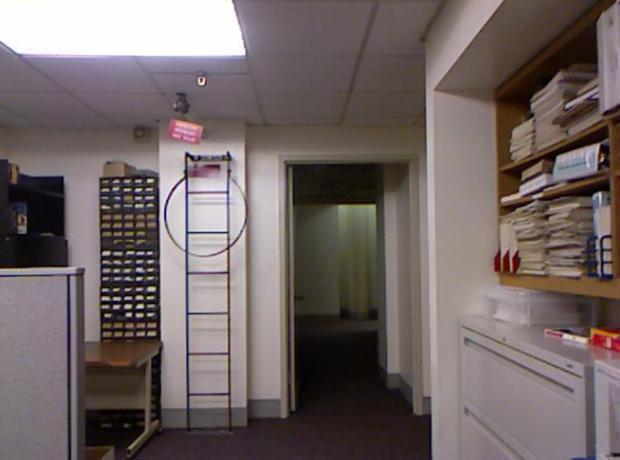Escaleras: (182, 150, 234, 431)
